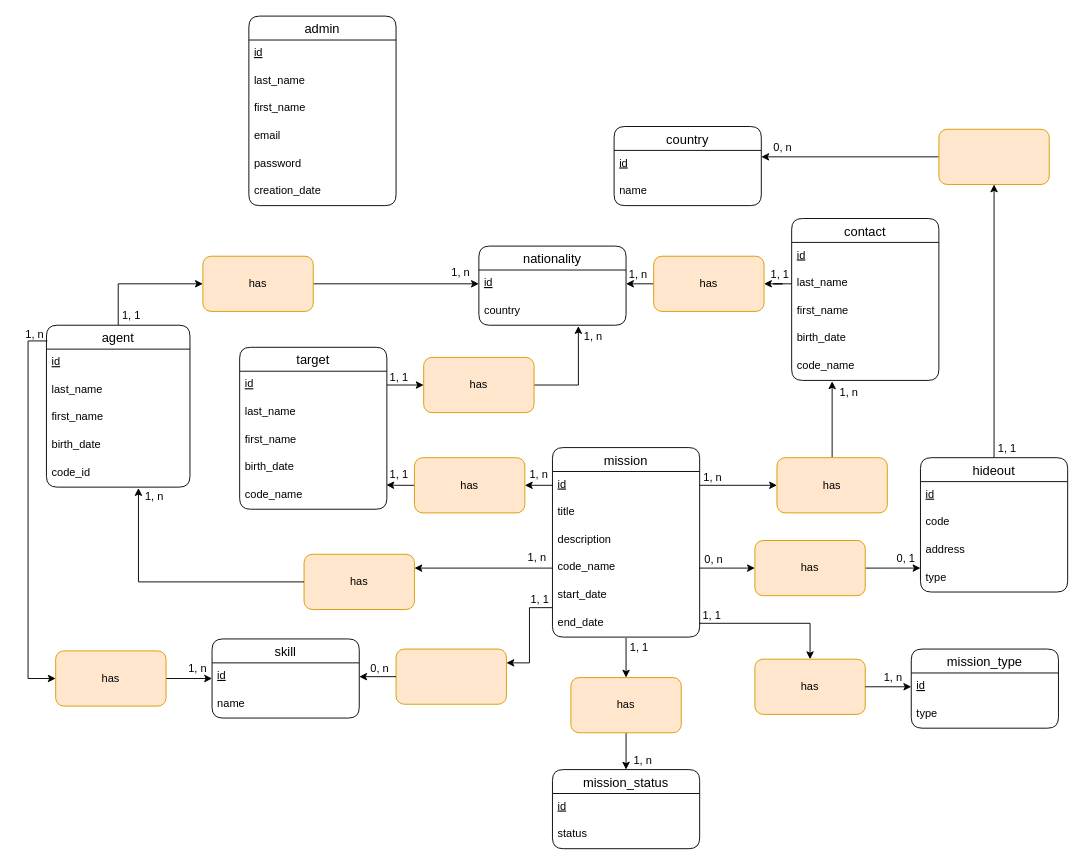
Some shapes in this 1084 by 868 pixel diagram are drawn without their labels. The shapes that lost their labels are listed below. From the top down, each one's centre as x and y in pixels, then its label:
point (993, 156): is located in
point (450, 676): requires
